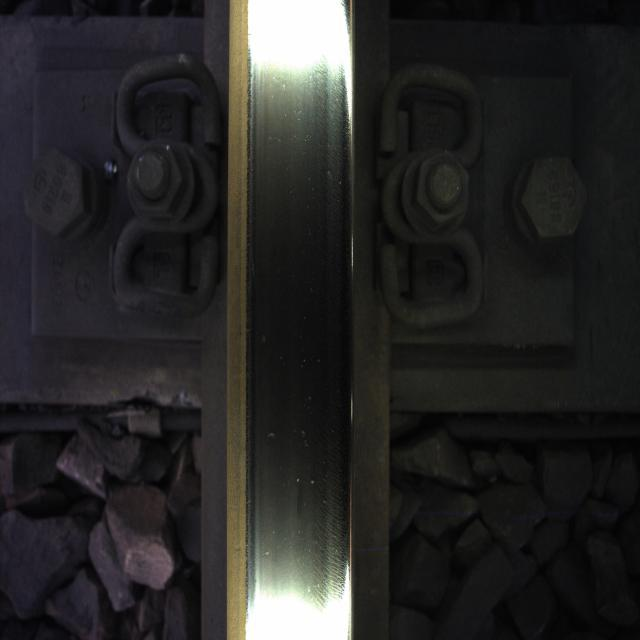break: (254, 54, 336, 601)
